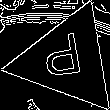P_S: (44, 32, 91, 88)
